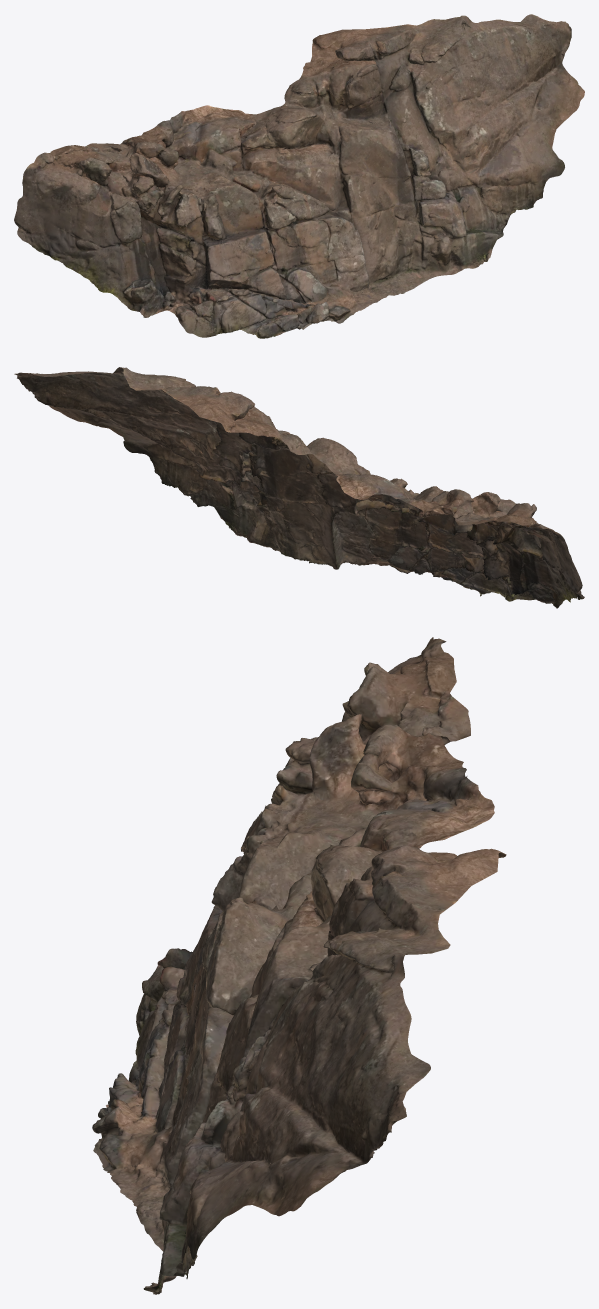
Rendered from namaqualand_cliff_02.glb.
3 views of the same model, one above another, from view 1: azimuth 30°, elevation 25°; view 2: azimuth 150°, elevation 25°; view 3: azimuth 270°, elevation 25° (orthographic). The views are drawn at different scales.
Visible parts, largest first — view 1: drone_rock_02_LOD0; view 2: drone_rock_02_LOD0; view 3: drone_rock_02_LOD0.
Part boxes in pixels (x1,y1,x2,y2): drone_rock_02_LOD0: [14, 14, 584, 338]; drone_rock_02_LOD0: [14, 367, 584, 608]; drone_rock_02_LOD0: [92, 637, 506, 1294].
Bounding box in the file's own units: 20.23 × 7.18 × 6.59.
1 material, 1 textured.
